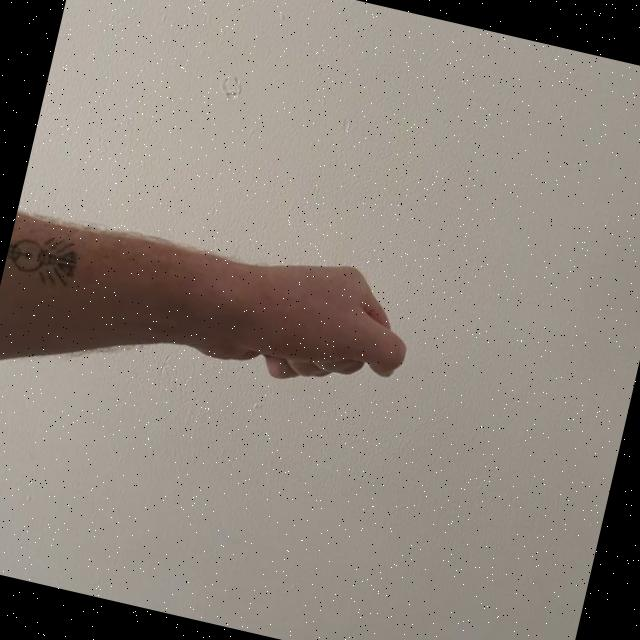rock: (136, 218, 428, 416)
